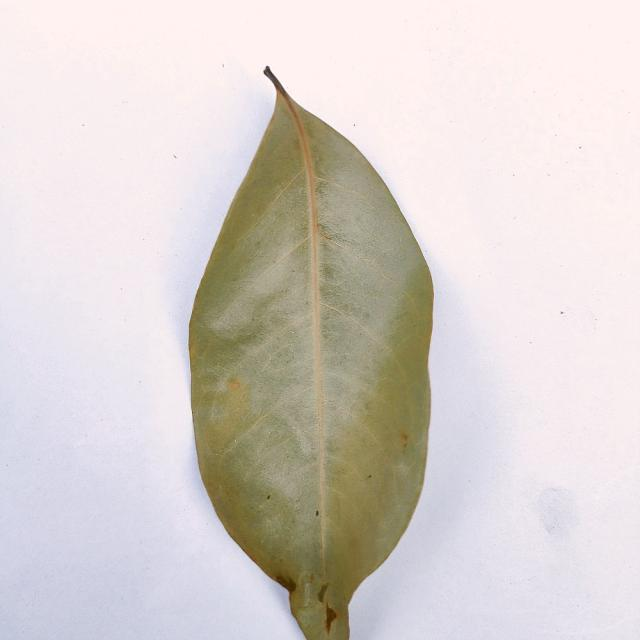Dry_Leaf-Lychee: (186, 69, 435, 639)
